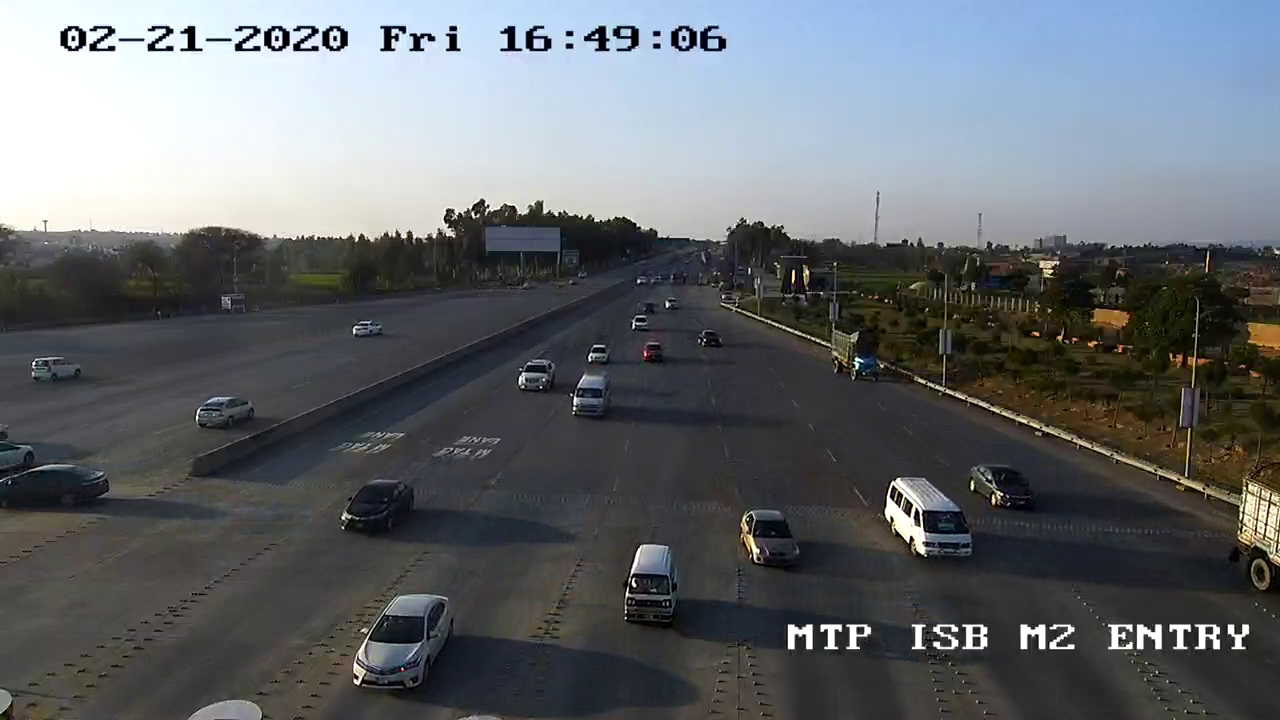f1: (335, 575, 465, 700), (612, 540, 686, 635), (731, 503, 809, 575), (334, 474, 419, 540)
f2: (877, 461, 985, 575)
